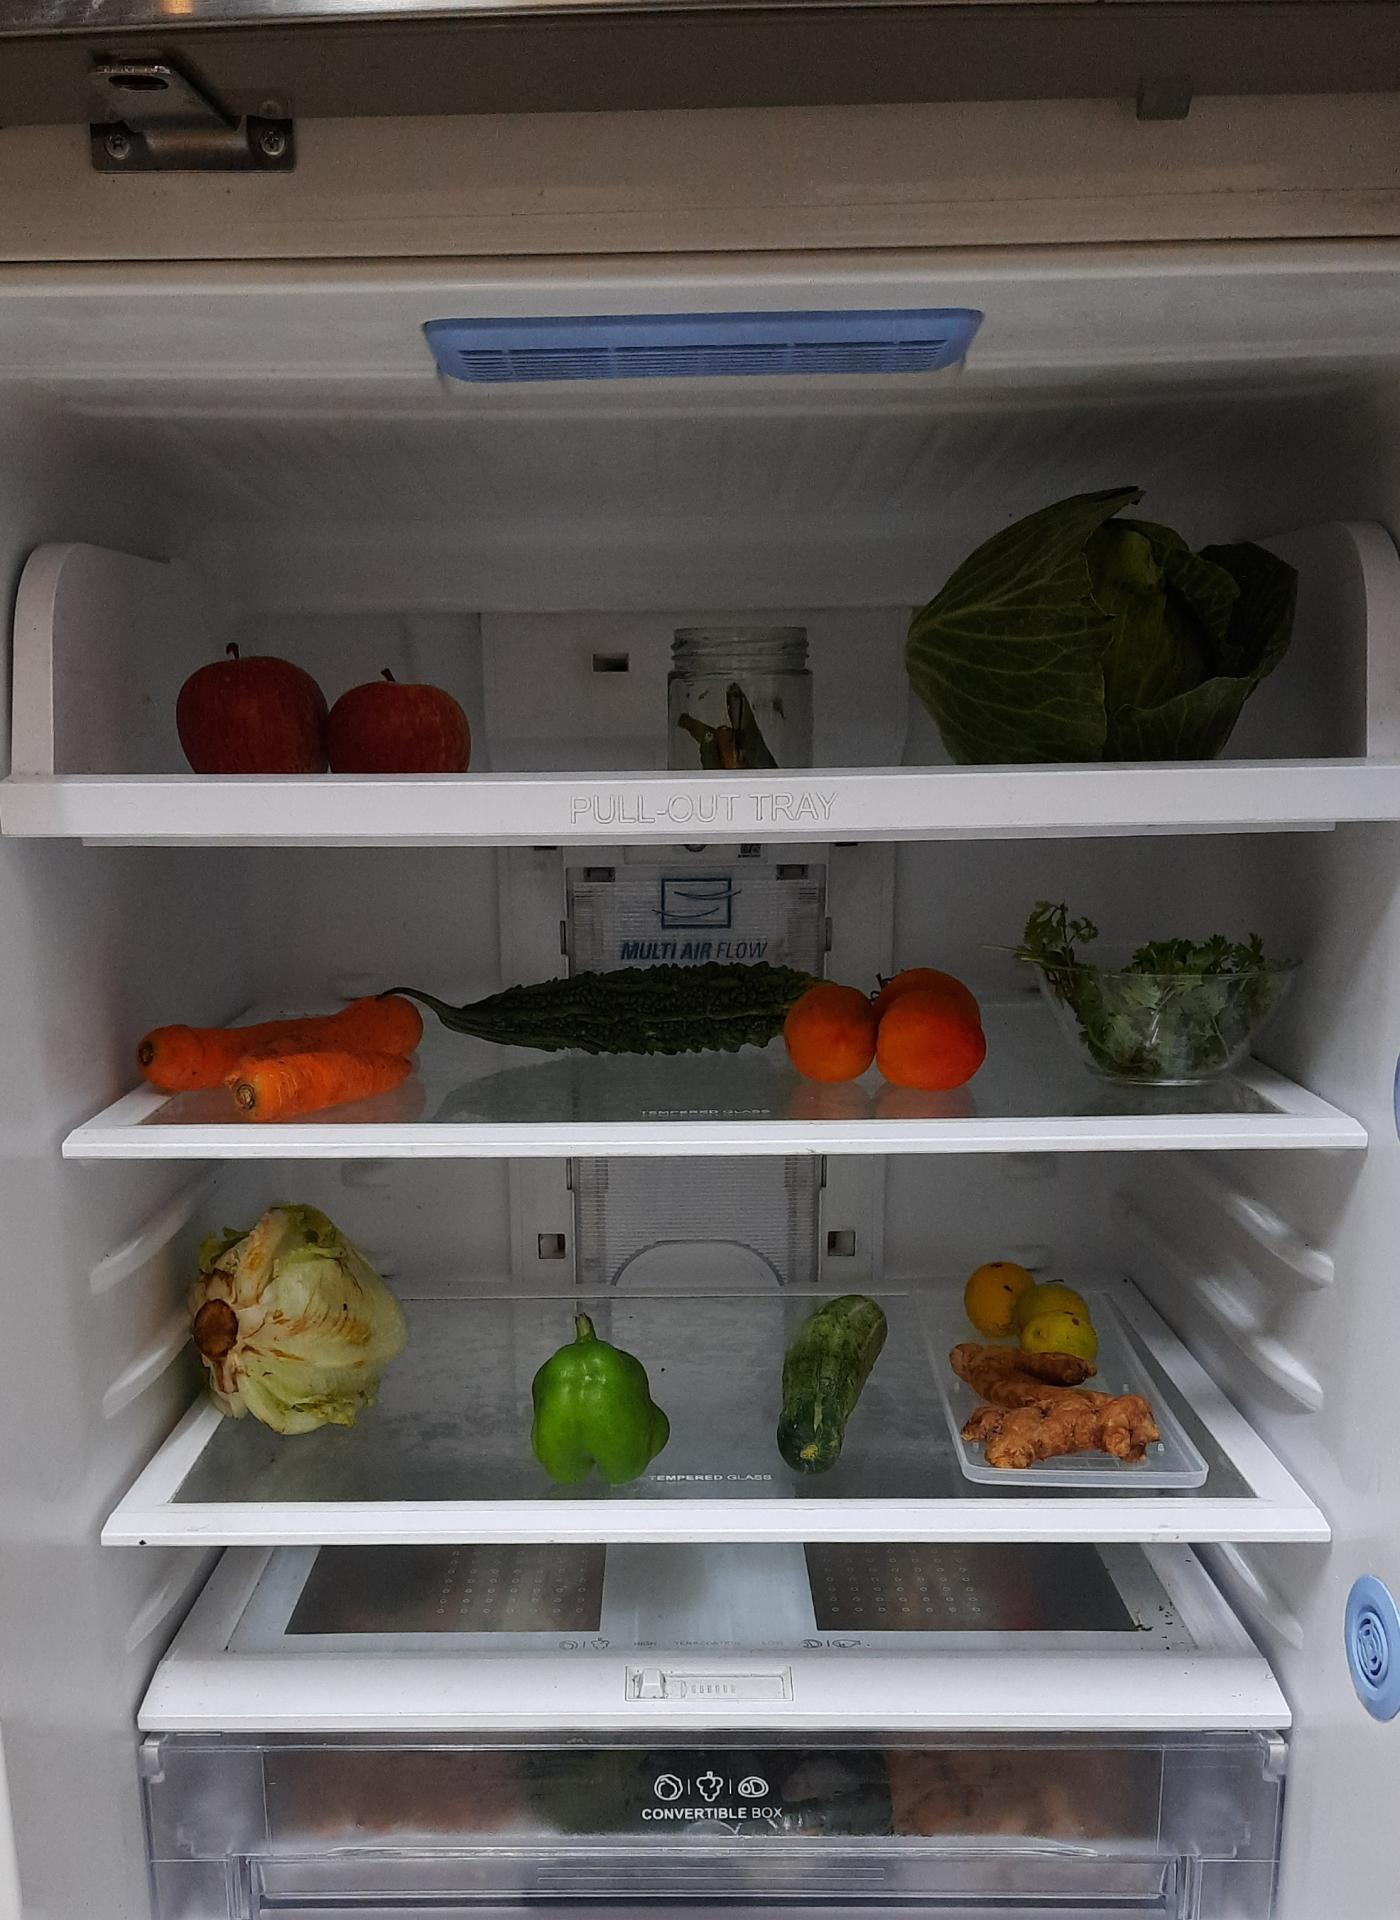apple: (174, 645, 473, 772)
bitter gourd: (423, 963, 819, 1058)
cabbage: (898, 471, 1305, 760)
capsicum: (535, 1328, 675, 1476)
carrots: (139, 999, 425, 1120)
chillies: (668, 663, 787, 766)
coriander: (1023, 909, 1284, 1090)
cucumber: (768, 1288, 901, 1477)
ginger: (951, 1343, 1164, 1470)
lemon: (963, 1252, 1099, 1376)
lettuce: (197, 1203, 407, 1431)
tomato: (789, 973, 990, 1093)
